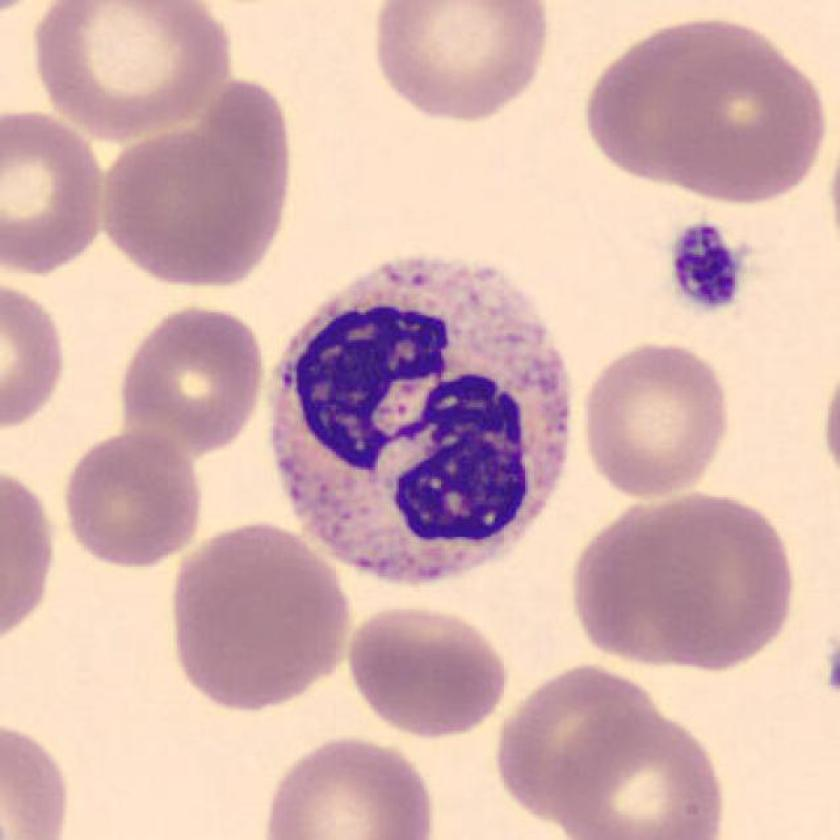neutrophil: (270, 258, 572, 585)
